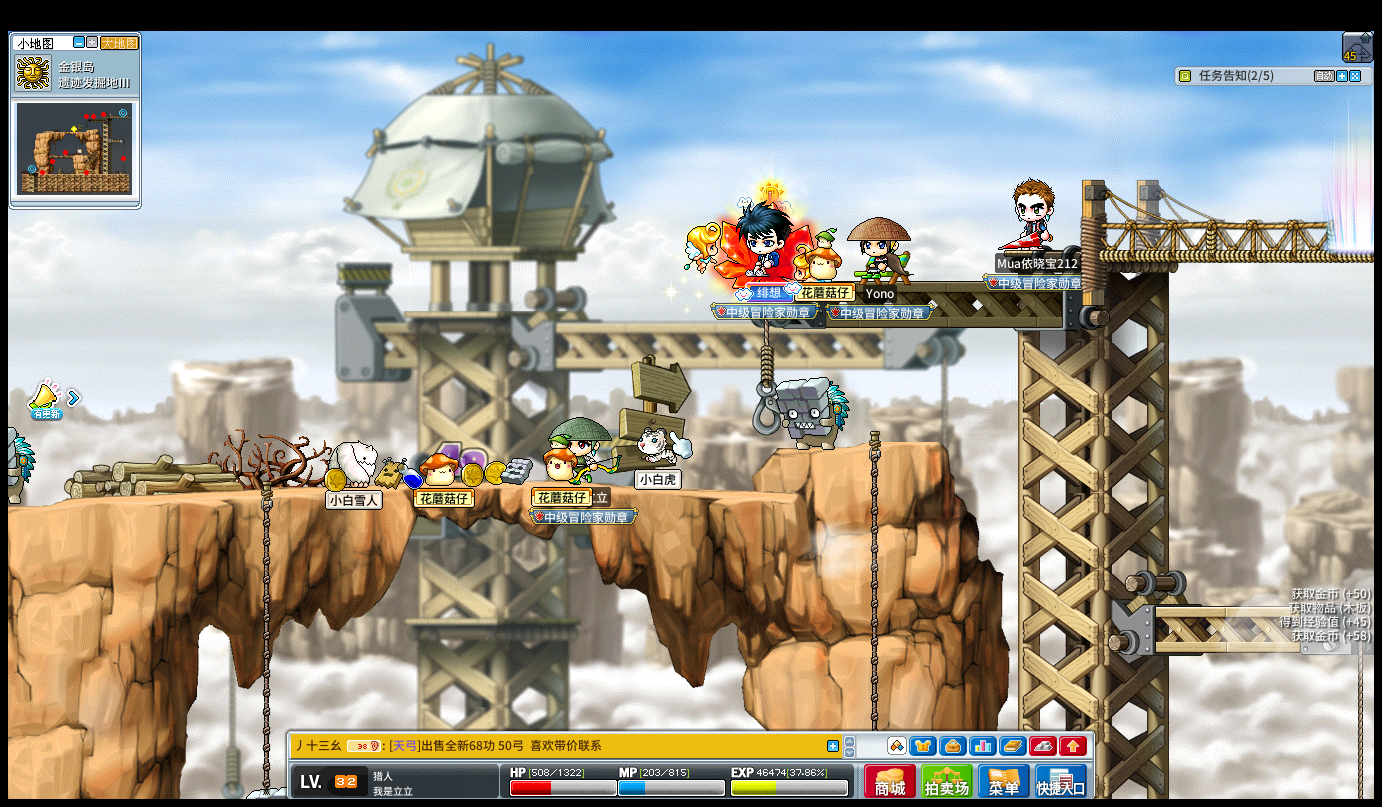floor: (21, 472, 908, 500), (18, 472, 722, 506), (13, 477, 866, 494), (1092, 215, 1362, 232), (771, 440, 944, 454)
monster: (775, 376, 850, 452), (1, 428, 37, 508)
rope: (256, 479, 271, 793), (867, 429, 880, 721)
